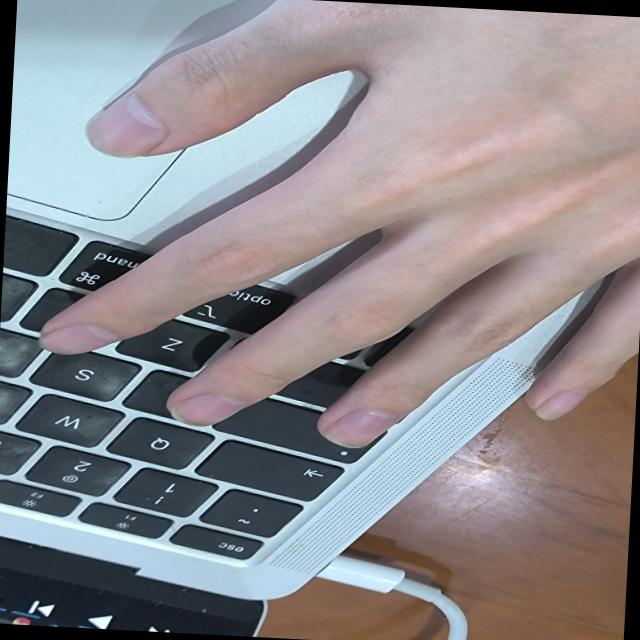Nail: (84, 92, 167, 157), (324, 410, 399, 447), (170, 392, 246, 426), (37, 323, 119, 354), (535, 390, 587, 420)
